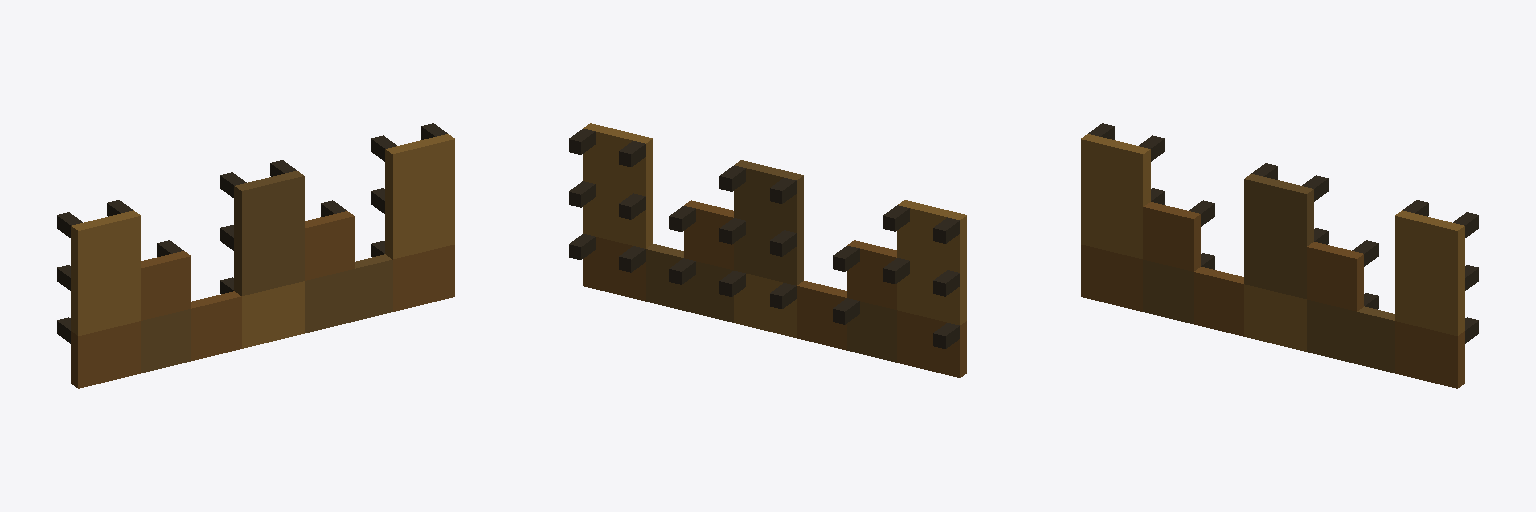
3 views of the same model, side by side, from view 1: azimuth 30°, elevation 25°; view 2: azimuth 150°, elevation 25°; view 3: azimuth 330°, elevation 25° (orthographic).
Parts seen in each view (by area): view 1: dock; view 2: dock; view 3: dock.
Boxes of the visible parts, <box> form: dock: <box>57,123,454,388</box>; dock: <box>569,123,966,377</box>; dock: <box>1081,123,1478,388</box>.
Bounding box in the file's own units: 30 × 12 × 3.
1 materials, 1 textured.